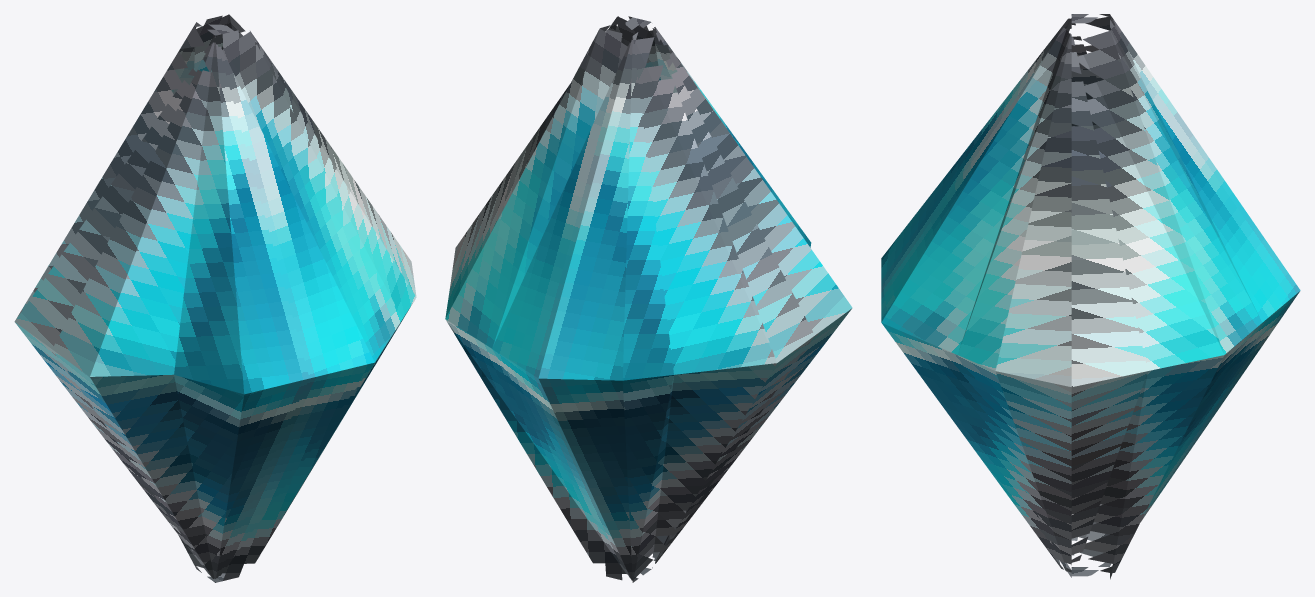
File: core.obj
3 views of the same model, side by side, from view 1: azimuth 30°, elevation 25°; view 2: azimuth 150°, elevation 25°; view 3: azimuth 270°, elevation 25° (orthographic).
Bounding box in the file's own units: 0.1579 × 0.2297 × 0.1579.
